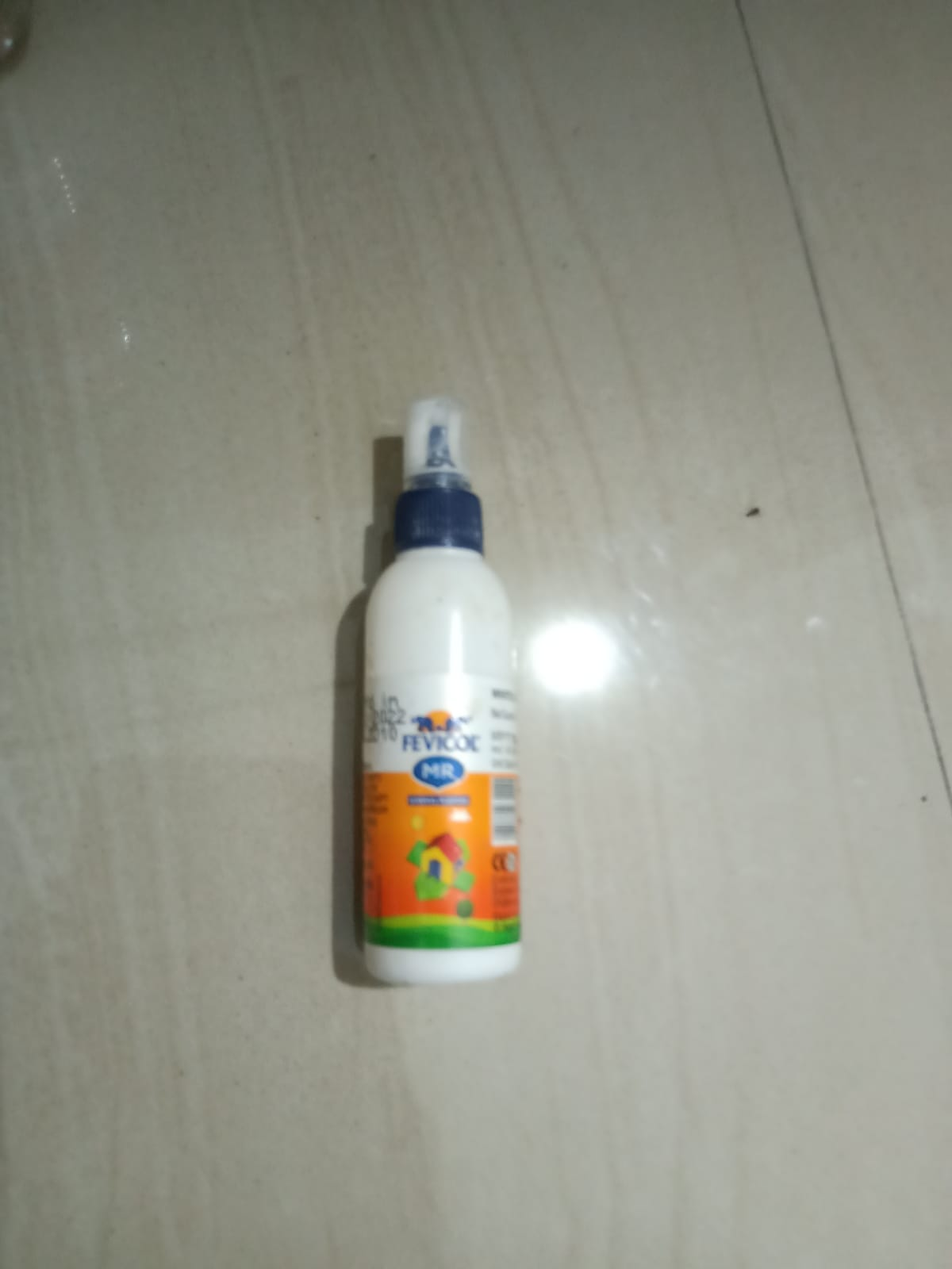plastic: (294, 310, 598, 1123)
